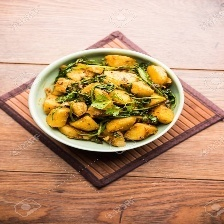sabzi: (42, 55, 176, 148)
